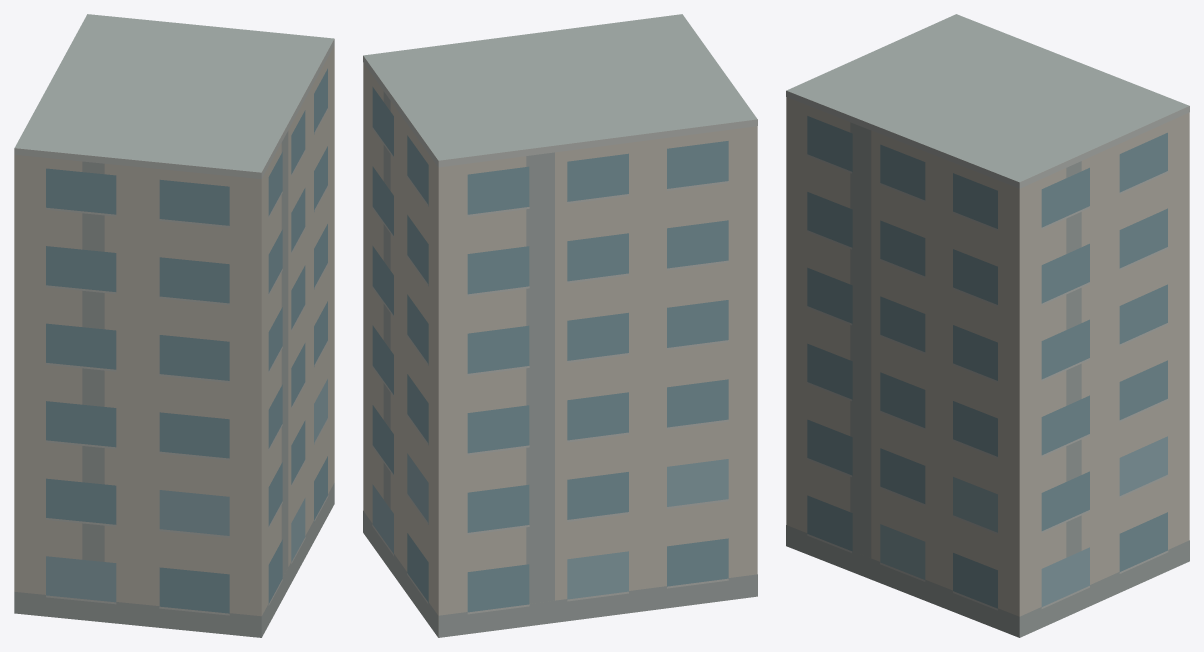
The model's file is survey-upis-33009722.glb.
3 renders of one model, left to right at view 1: azimuth 30°, elevation 25°; view 2: azimuth 150°, elevation 25°; view 3: azimuth 270°, elevation 25°, orthographic. The views are drawn at different scales.
Parts seen in each view (by area): view 1: survey-upis-33009722.tmp; view 2: survey-upis-33009722.tmp; view 3: survey-upis-33009722.tmp.
Part boxes in pixels (box(x1,y1,x2,y2)): survey-upis-33009722.tmp: box(14, 14, 334, 637); survey-upis-33009722.tmp: box(363, 14, 757, 637); survey-upis-33009722.tmp: box(786, 14, 1189, 637).
Size of the model in its own units: 13.64 by 17.2 by 13.82.
